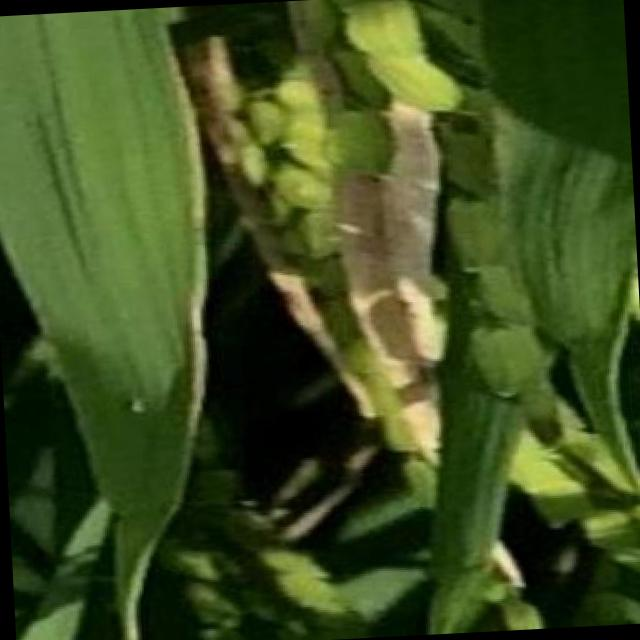Rice_Bacterial_Blight: (8, 32, 215, 434)
